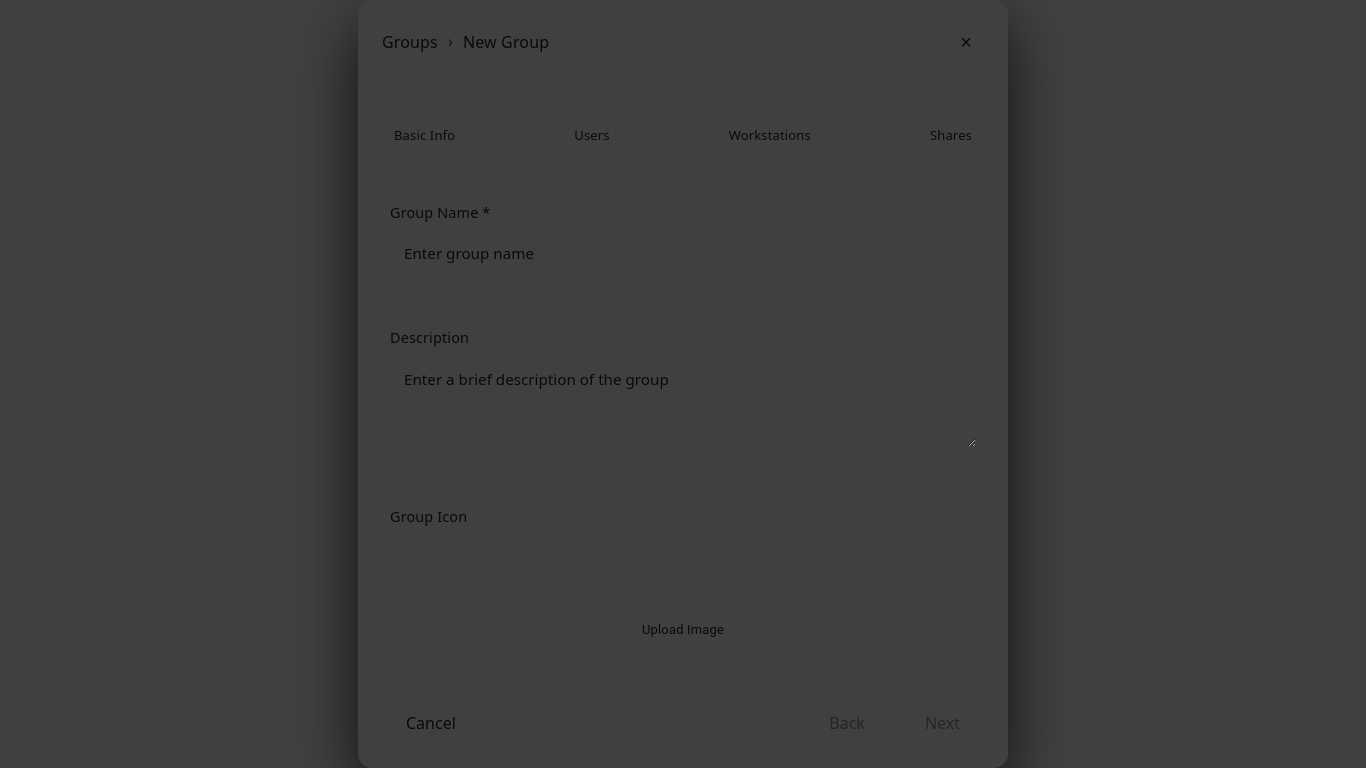
Test: GroupsModal Component › Step Navigation › navigates to next step when Next is clicked
Type "Test Group" into the field with placeholder "Enter group name". click: (683, 253)
box: [390,231,976,275]
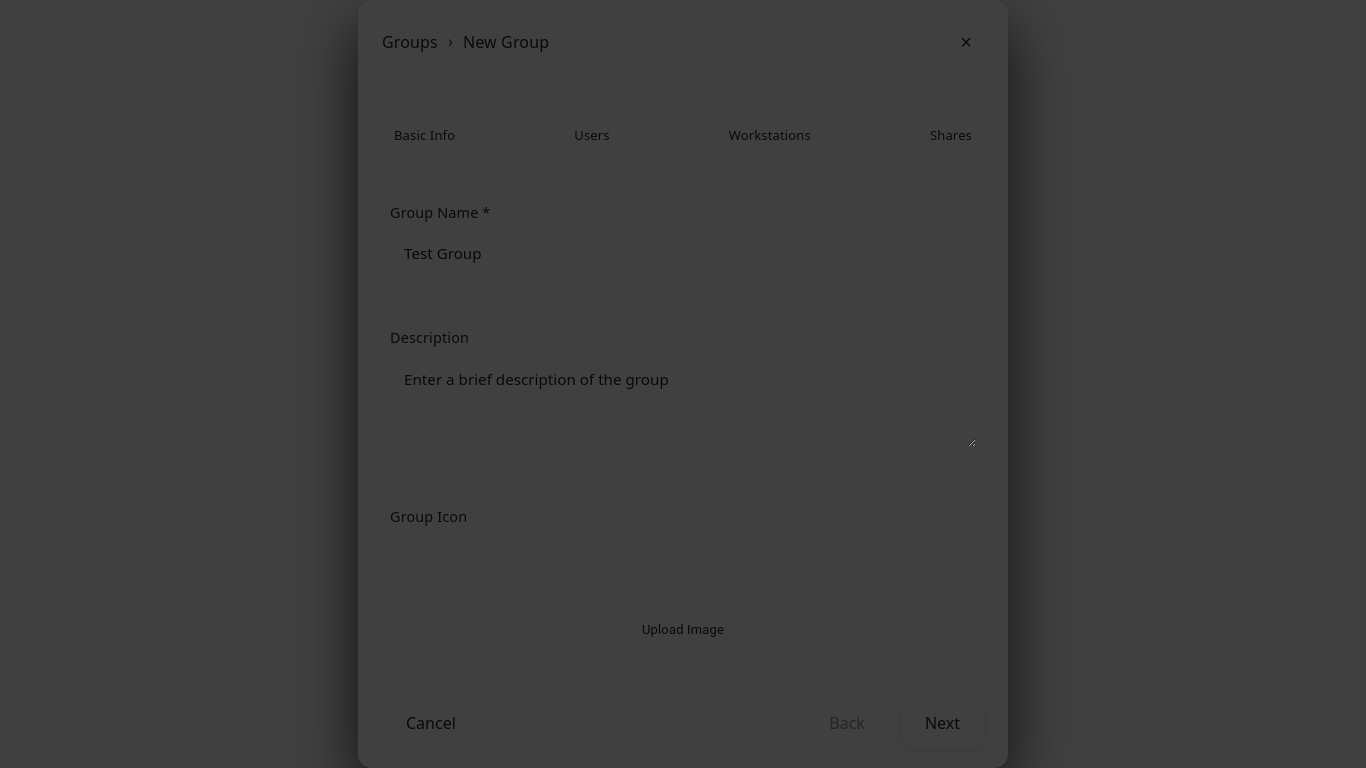
Click the button "Next". click: (942, 723)
box: [901,698,984,748]
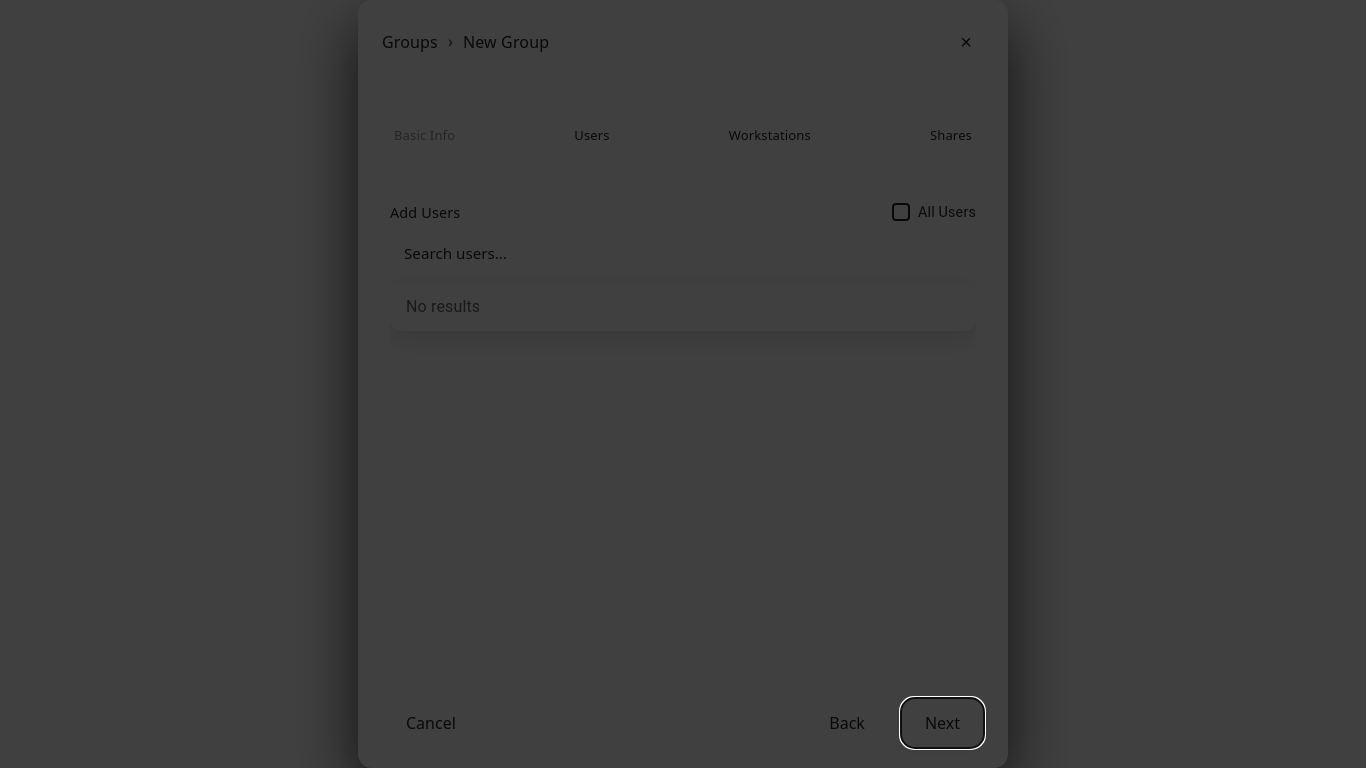
Expected: the field with placeholder "Search users..." is shown, [390,231,976,275]
